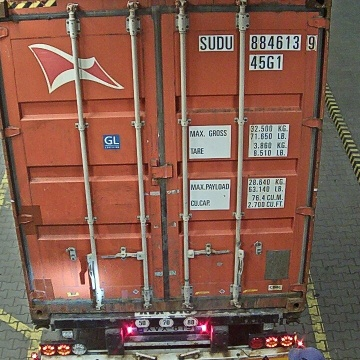serial_id: (199, 35, 316, 50)
